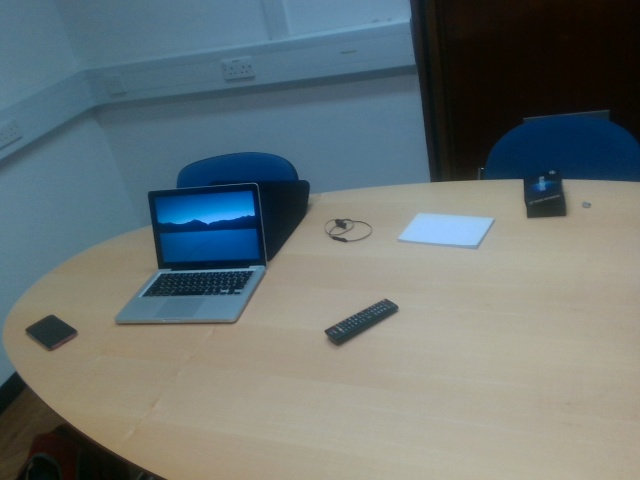remote: (325, 299, 399, 347)
